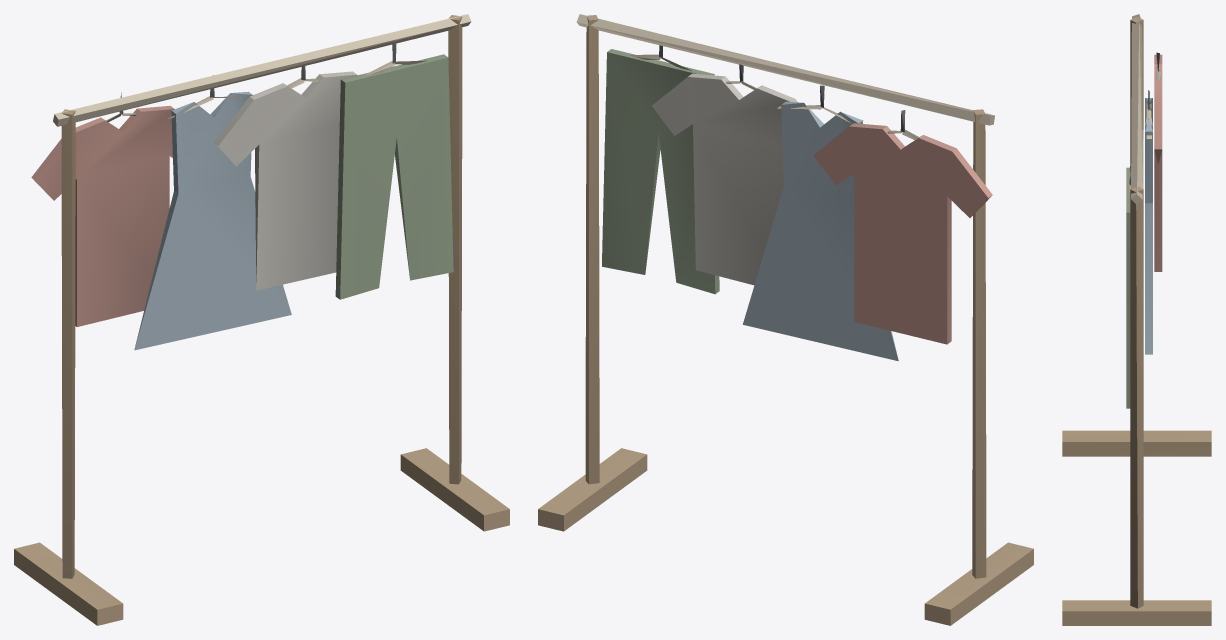
File: wear_rack_straight__plain_low.glb
3 renders of one model, left to right at view 1: azimuth 30°, elevation 25°; view 2: azimuth 150°, elevation 25°; view 3: azimuth 270°, elevation 25°, orthographic. The views are drawn at different scales.
Parts seen in each view (by area): view 1: wear.rack_straight__plain; view 2: wear.rack_straight__plain; view 3: wear.rack_straight__plain.
Boxes of the visible parts, x1=… form: wear.rack_straight__plain: x1=14, y1=14, x2=509, y2=625; wear.rack_straight__plain: x1=538, y1=14, x2=1033, y2=625; wear.rack_straight__plain: x1=1062, y1=14, x2=1211, y2=625.
Size of the model in its own units: 1.64 by 1.78 by 0.56.
